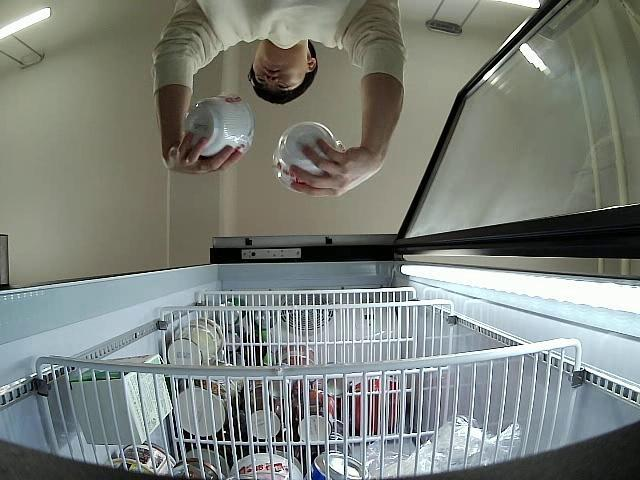09_yukGaeJang: (274, 121, 342, 190), (184, 90, 252, 155)
